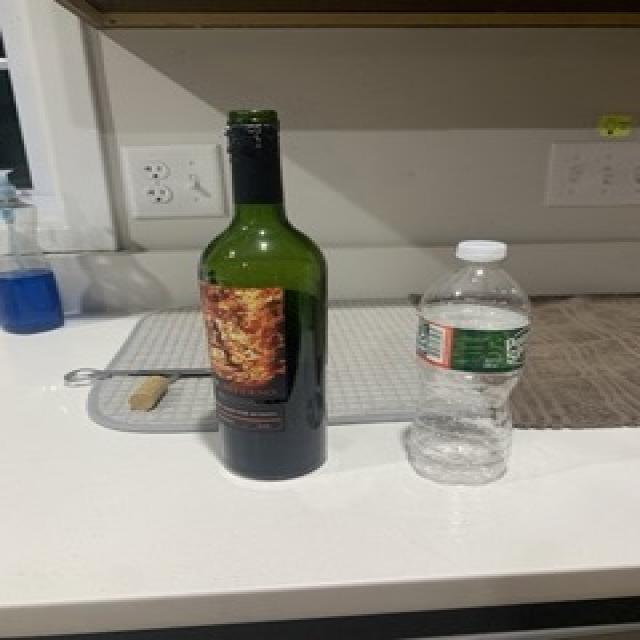water_bottle: (412, 239, 532, 491)
